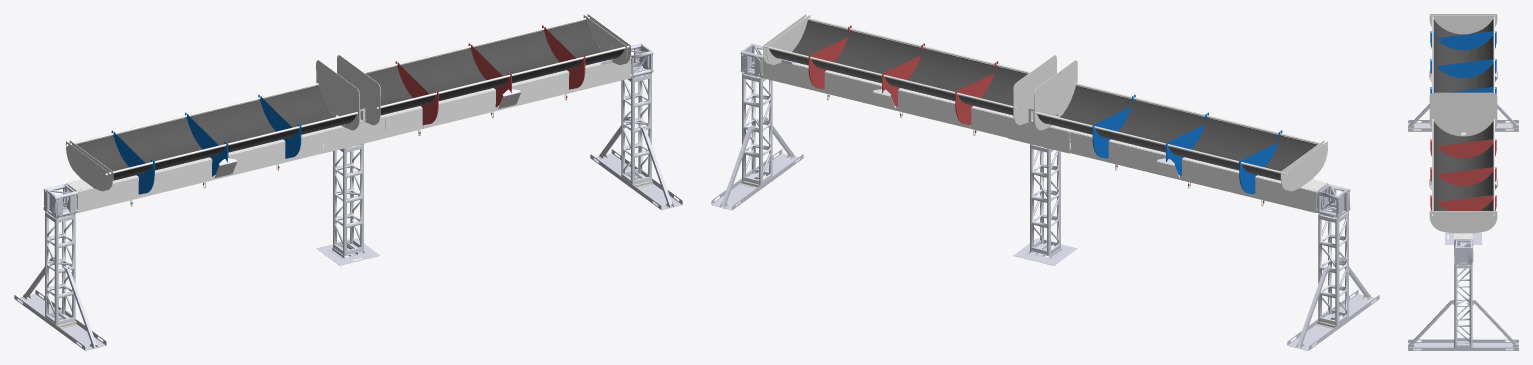
File: Barge.fbx
The picture shows the model from 3 angles, left to right: view 1: azimuth 30°, elevation 25°; view 2: azimuth 150°, elevation 25°; view 3: azimuth 270°, elevation 25°; orthographic projection. The views are drawn at different scales.
Visible parts, largest first — view 1: GE-25228.001, GE-25228, FE-01003, FE-01003.001, FE-01003.003, GE-25207.001, GE-25207, GE-25223.003, GE-25223.004, GE-25203-01.001, GE-25211_Vinyl.001, GE-25224.003 (+17 smaller); view 2: GE-25228.001, GE-25228, FE-01003, FE-01003.001, FE-01003.003, GE-25207.001, GE-25207, GE-25223.001, GE-25223.005, GE-25211_Vinyl, GE-25203-01.001, GE-25203-01 (+17 smaller); view 3: GE-25228, GE-25228.001, GE-25207, GE-25209-Vinyl, FE-01003.003, GE-25203-01.001, GE-25208.001, GE-25214, GE-25213, GE-25214.002, GE-25213.001, GE-25214.001 (+12 smaller).
Part boxes in pixels (x1,y1,x2,y2): GE-25228.001: (76, 85, 356, 180); GE-25228: (366, 20, 624, 115); FE-01003: (45, 206, 75, 325); FE-01003.001: (333, 143, 363, 255); FE-01003.003: (621, 68, 651, 185); GE-25207.001: (316, 60, 359, 130); GE-25207: (337, 55, 380, 125); GE-25223.003: (139, 159, 212, 197); GE-25223.004: (423, 90, 496, 128); GE-25203-01.001: (590, 149, 682, 210); GE-25211_Vinyl.001: (323, 117, 385, 153); GE-25224.003: (78, 177, 139, 212); GE-25228.001: (1037, 85, 1317, 180); GE-25228: (769, 20, 1027, 115); FE-01003: (1318, 206, 1348, 325); FE-01003.001: (1030, 144, 1060, 255); FE-01003.003: (742, 65, 772, 185); GE-25207.001: (1034, 60, 1077, 130); GE-25207: (1013, 55, 1056, 125); GE-25223.001: (1181, 159, 1254, 197); GE-25223.005: (897, 90, 970, 128); GE-25211_Vinyl: (1008, 117, 1069, 153); GE-25203-01.001: (711, 149, 803, 210); GE-25203-01: (1287, 290, 1379, 350); GE-25228: (1433, 121, 1493, 210); GE-25228.001: (1433, 19, 1493, 92); GE-25207: (1429, 100, 1497, 136); GE-25209-Vinyl: (1429, 212, 1497, 233); FE-01003.003: (1454, 264, 1472, 347); GE-25203-01.001: (1408, 339, 1518, 350); GE-25208.001: (1429, 15, 1497, 34); GE-25214: (1430, 139, 1496, 158); GE-25213: (1430, 31, 1496, 50); GE-25214.002: (1430, 167, 1496, 186); GE-25213.001: (1430, 59, 1496, 78); GE-25214.001: (1430, 195, 1496, 210).
Bounding box in the file's own units: 890 × 256 × 183.
